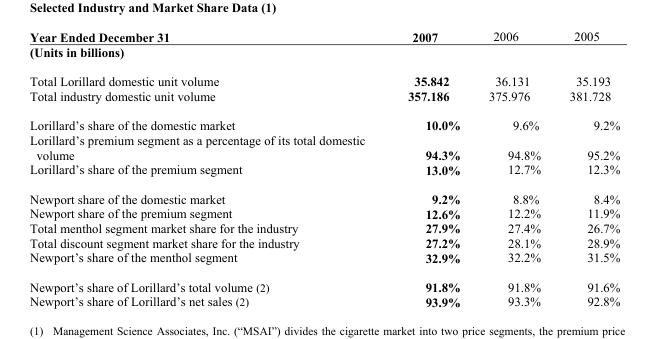table: (28, 29, 619, 308)
table column: (28, 29, 352, 308), (352, 29, 473, 308), (473, 29, 554, 308), (554, 29, 619, 308)
table column header: (28, 29, 619, 43)
table projected row header: (28, 43, 619, 66), (28, 132, 619, 146)
table row: (28, 43, 619, 66), (28, 66, 619, 88), (28, 88, 619, 110), (28, 110, 619, 132), (28, 161, 619, 183), (28, 183, 619, 205), (28, 249, 619, 271), (28, 271, 619, 293), (28, 146, 619, 161), (28, 205, 619, 220), (28, 220, 619, 235), (28, 293, 619, 308), (28, 29, 619, 43), (28, 132, 619, 146), (28, 235, 619, 249)
